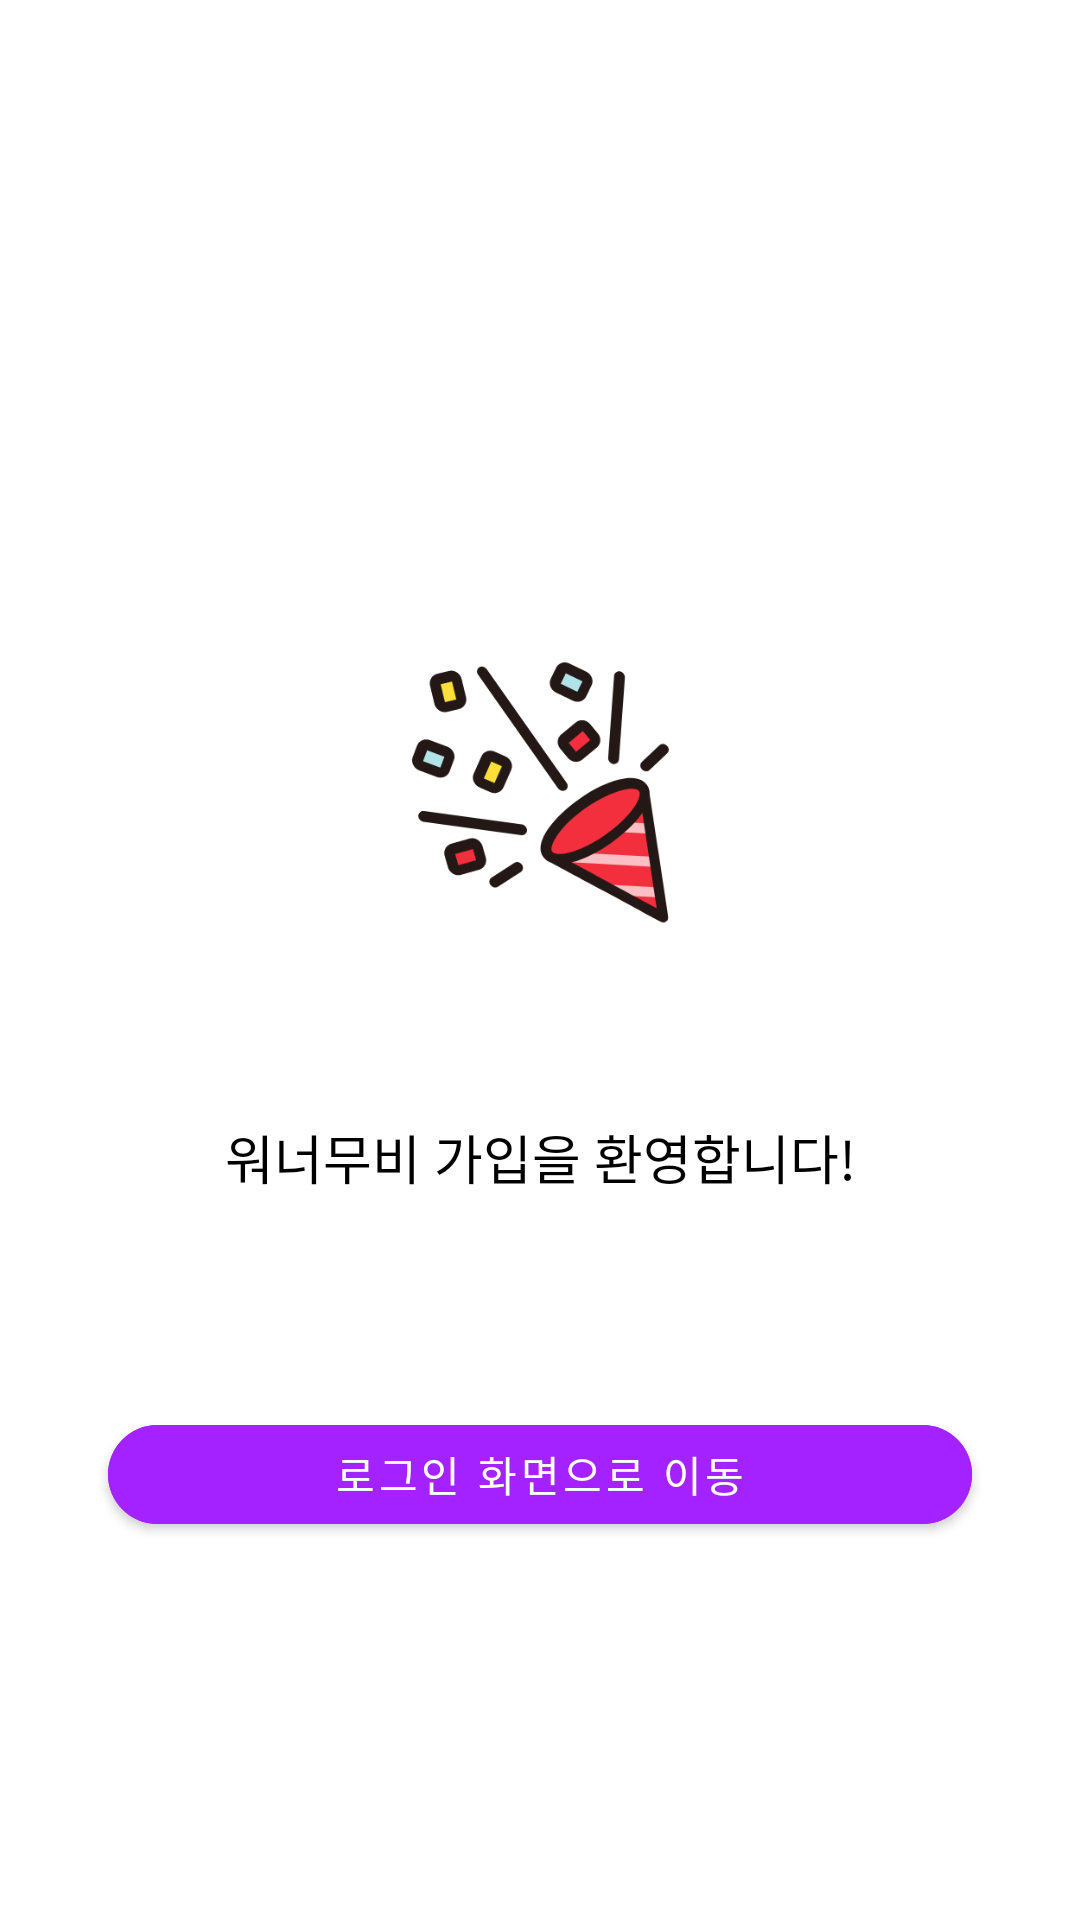

Point at icon controls on the screen. Image size 1080px×1920px, points as (x=x, y=y).
congratulate: (x=540, y=792)
